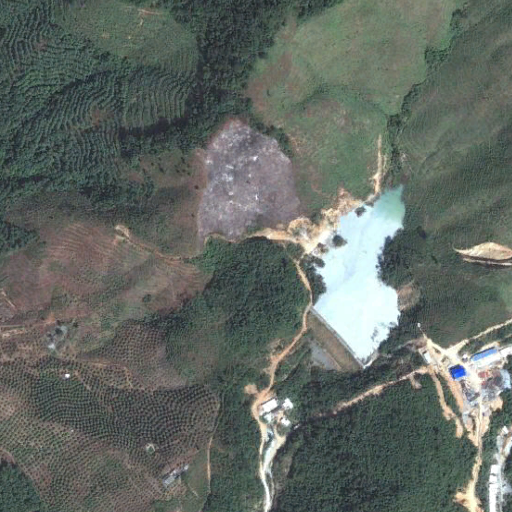tp: (305, 186, 409, 373)
